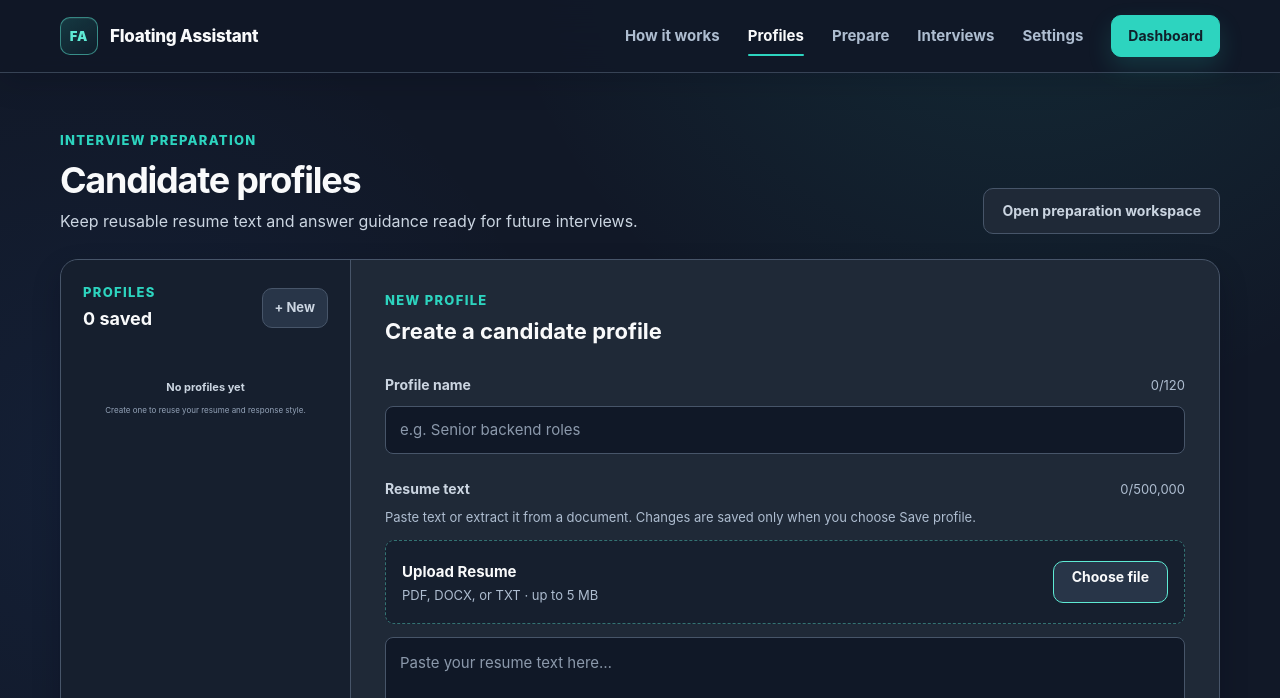
Test case: website routing and authentication › creates a candidate profile only after an explicit save
Check: the text "No profiles yet" is shown, box [166,380,245,394]
Type "Platform roles" into the field named "Profile name" at (785, 430), box [385,406,1185,454]
(page scrolled)
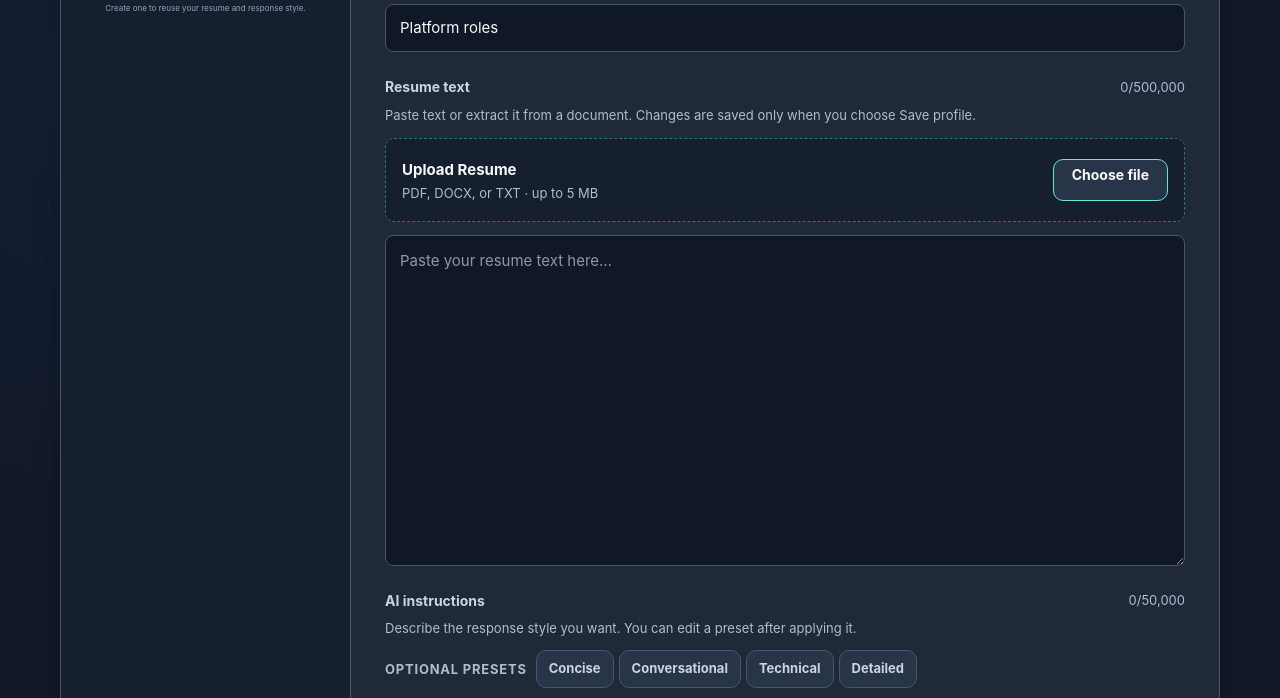
Type "Synthetic resume text" into the text box labelled "resume text" at (785, 400), box [385,235,1185,566]
(page scrolled)
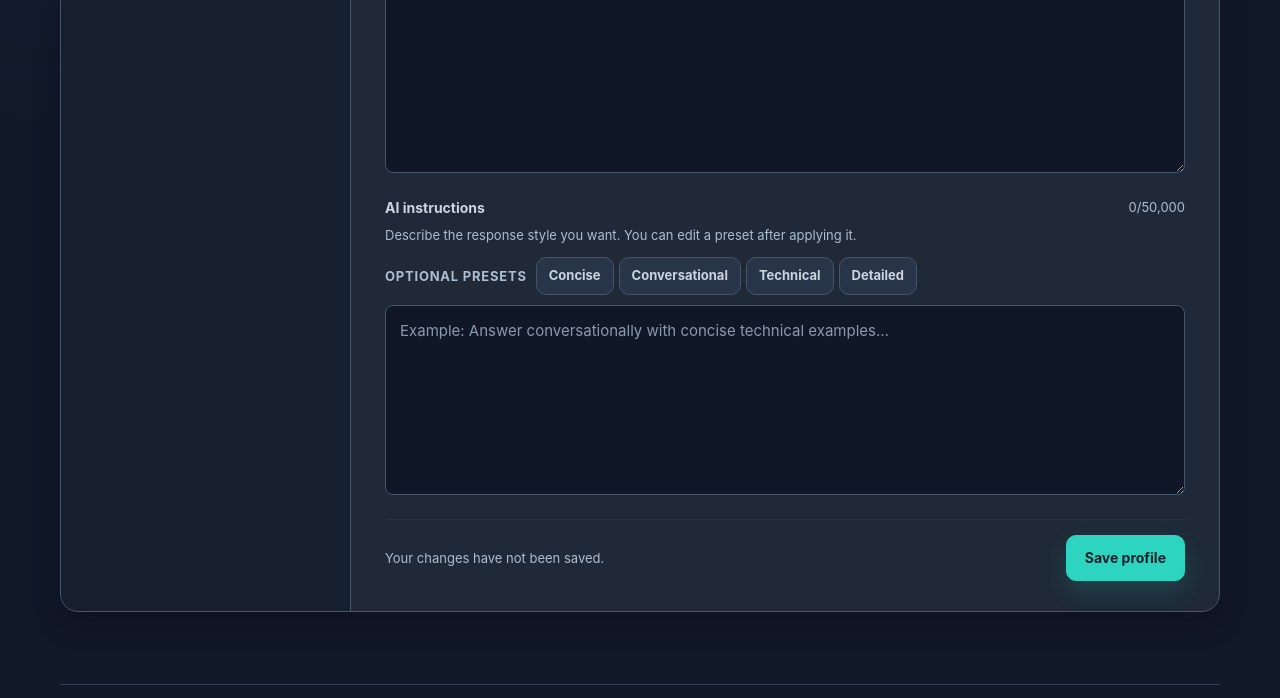
Replace the text in the text box named "AI instructions" with "Give concise technical answers." at (785, 400), box [385,305,1185,496]
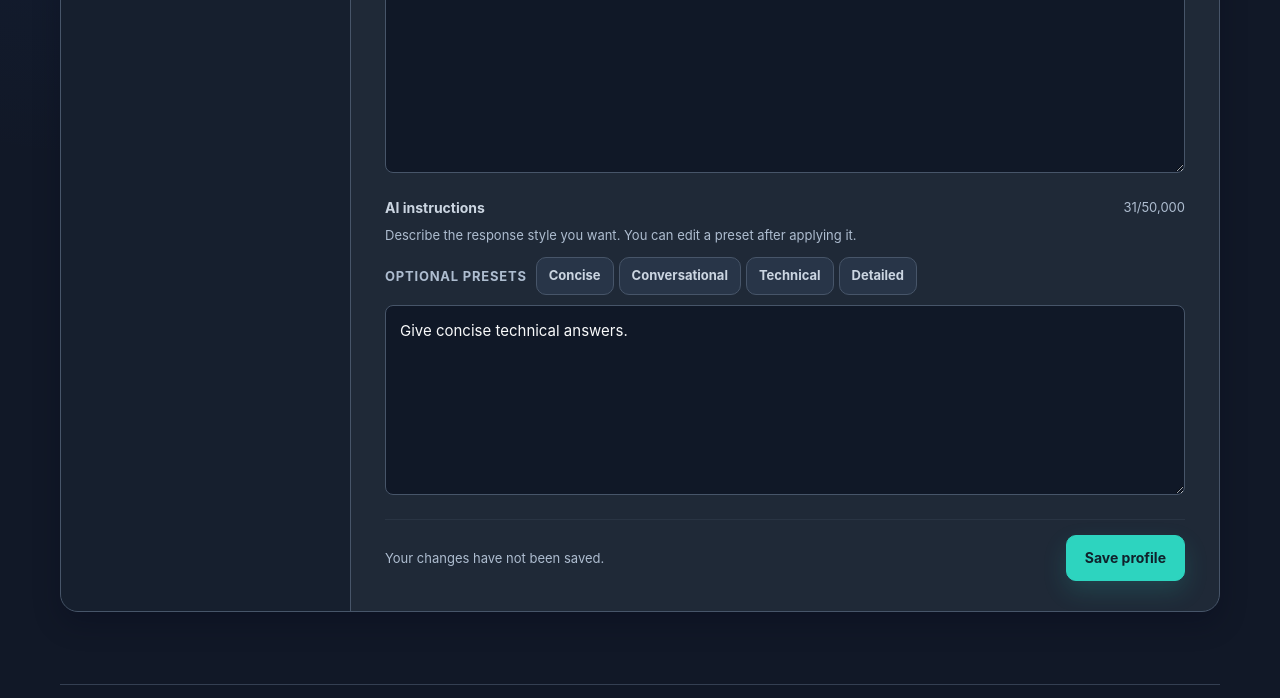
Click the button "Save profile" at (1125, 558), box [1066,535,1185,581]
(page scrolled)
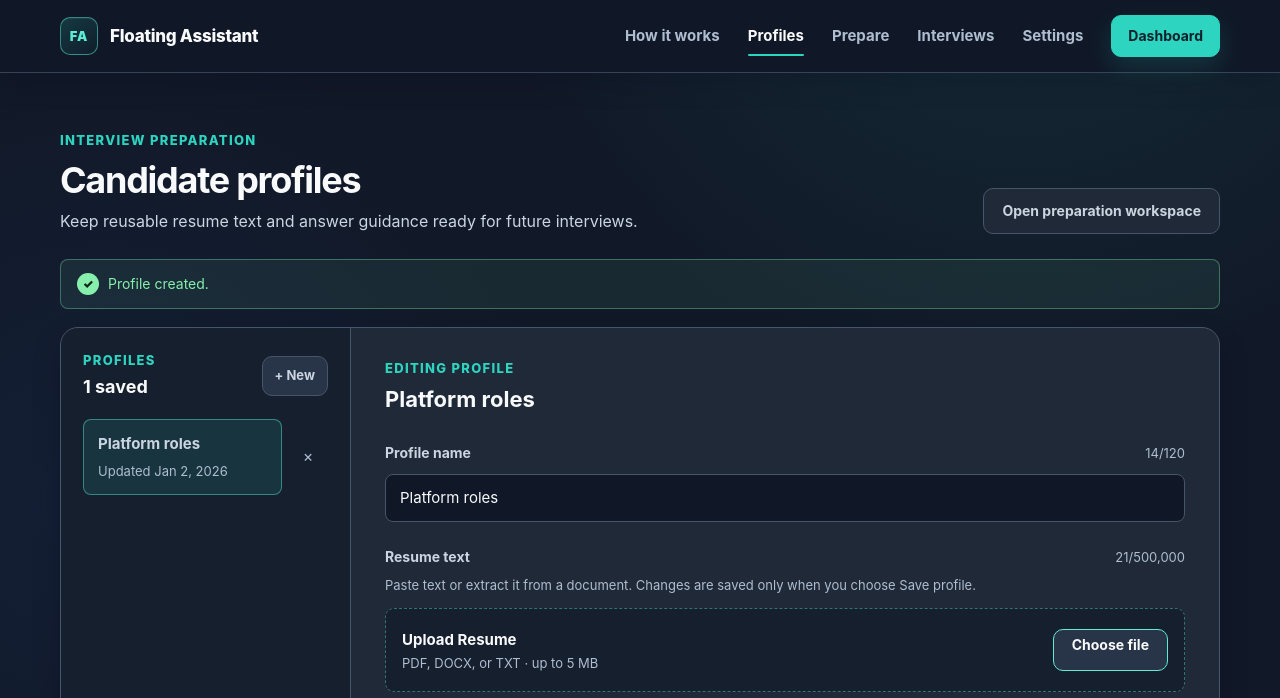
Check: the text "Profile created." is shown, box [108,275,209,292]
